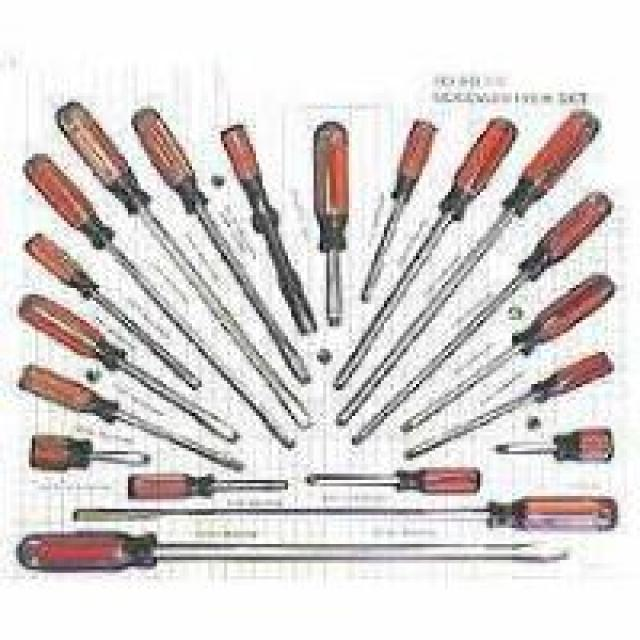screwdriver: (334, 111, 612, 426), (56, 101, 314, 433), (25, 150, 302, 456), (349, 194, 616, 453), (131, 104, 308, 394), (337, 111, 517, 388), (400, 274, 625, 438), (11, 289, 238, 437), (5, 525, 578, 582), (18, 234, 208, 396), (393, 346, 616, 474), (202, 116, 320, 330), (64, 494, 626, 538), (19, 364, 247, 472), (347, 118, 442, 306), (311, 118, 354, 336), (15, 430, 172, 476), (294, 464, 488, 500), (114, 467, 293, 499), (500, 424, 626, 468)
